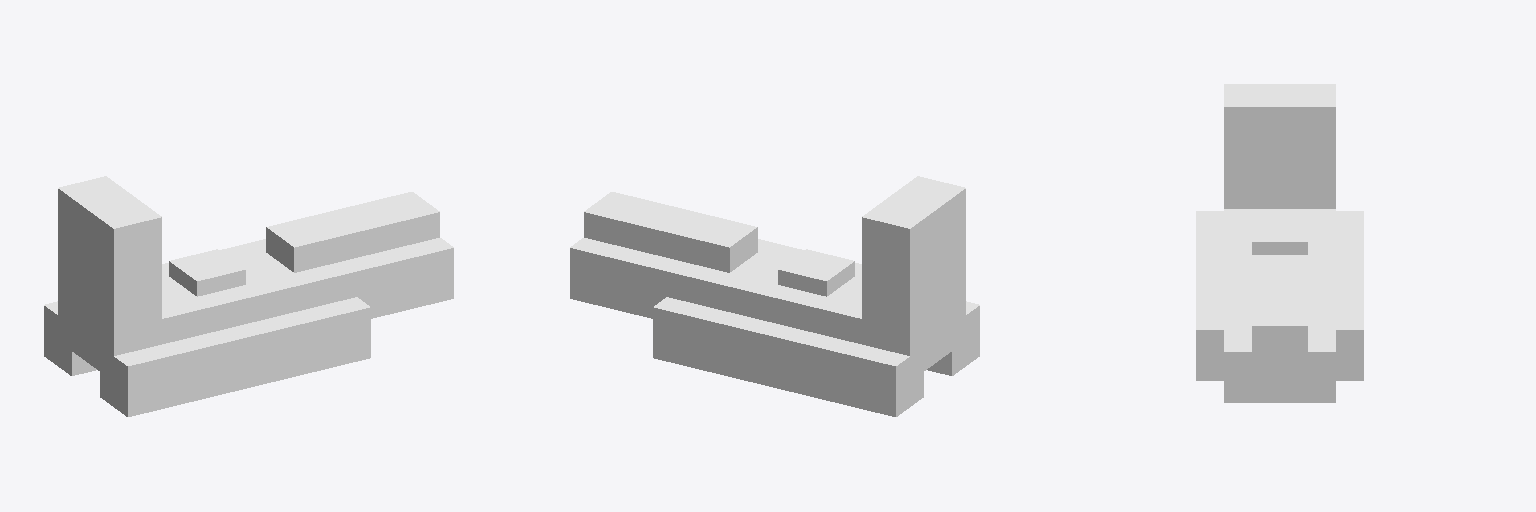
File: red_dot_sight.obj
The picture shows the model from 3 angles: view 1: azimuth 30°, elevation 25°; view 2: azimuth 150°, elevation 25°; view 3: azimuth 270°, elevation 25°; orthographic projection.
Visible parts, largest first — view 1: Shape1, Shape3, Shape5, Shape4, Shape6, Shape2; view 2: Shape1, Shape2, Shape5, Shape4, Shape6, Shape3; view 3: Shape1, Shape5, Shape4, Shape2, Shape3, Shape6.
Boxes of the visible parts, x1=… form: Shape1: x1=58, y1=238, x2=453, y2=380; Shape3: x1=100, y1=297, x2=370, y2=416; Shape5: x1=58, y1=176, x2=161, y2=330; Shape4: x1=266, y1=192, x2=439, y2=272; Shape6: x1=169, y1=249, x2=245, y2=296; Shape2: x1=44, y1=301, x2=96, y2=375; Shape1: x1=570, y1=238, x2=965, y2=380; Shape2: x1=653, y1=297, x2=923, y2=416; Shape5: x1=862, y1=176, x2=965, y2=330; Shape4: x1=584, y1=192, x2=757, y2=272; Shape6: x1=778, y1=249, x2=854, y2=296; Shape3: x1=927, y1=301, x2=979, y2=375; Shape1: x1=1224, y1=209, x2=1335, y2=402; Shape5: x1=1224, y1=84, x2=1335, y2=208; Shape4: x1=1252, y1=255, x2=1307, y2=376; Shape2: x1=1336, y1=211, x2=1363, y2=380; Shape3: x1=1196, y1=211, x2=1223, y2=380; Shape6: x1=1252, y1=218, x2=1307, y2=254.
Size of the model in its own units: 0.4375 by 0.2188 by 0.1875.